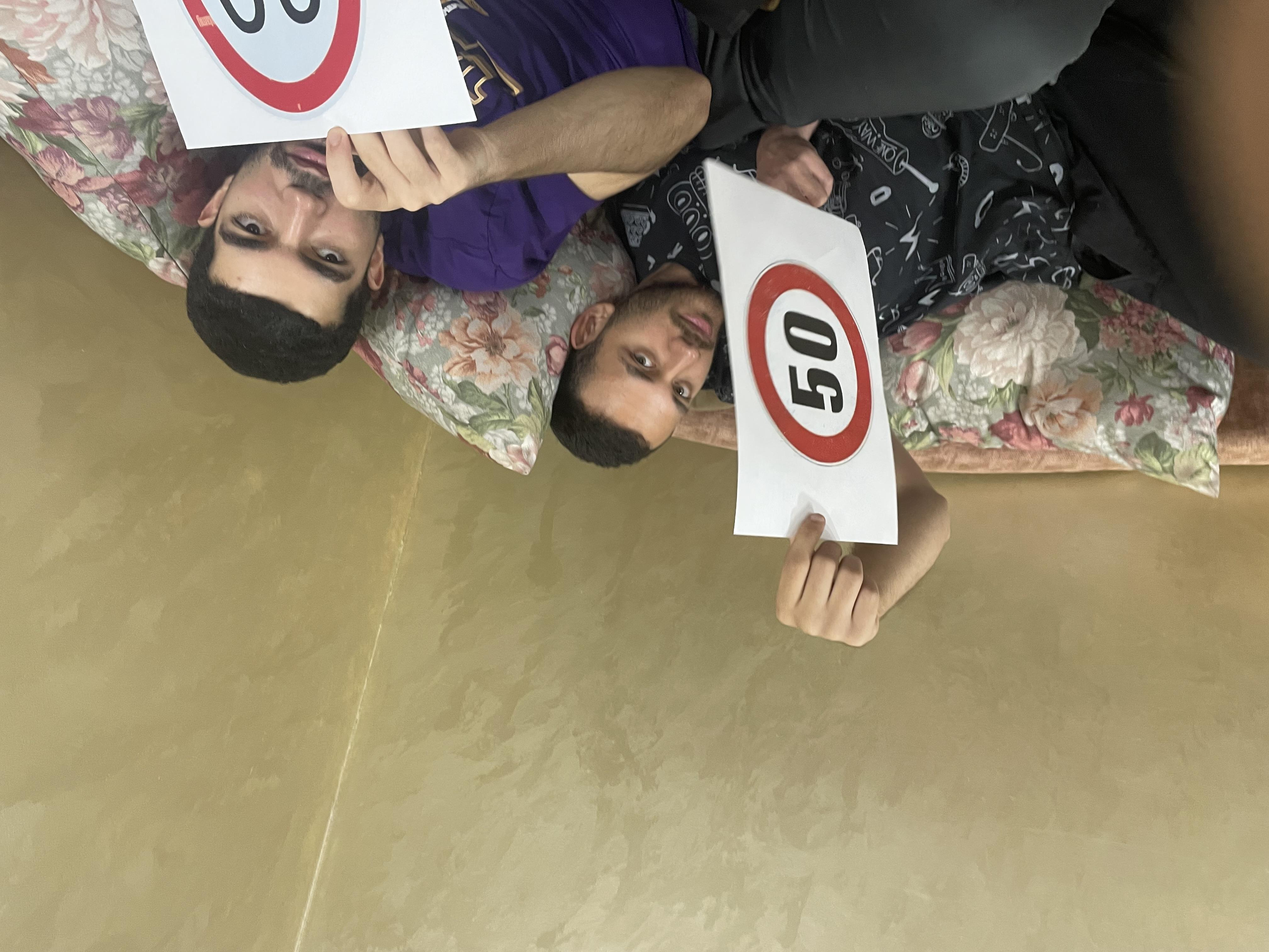50-Speed: (395, 474, 531, 701)
